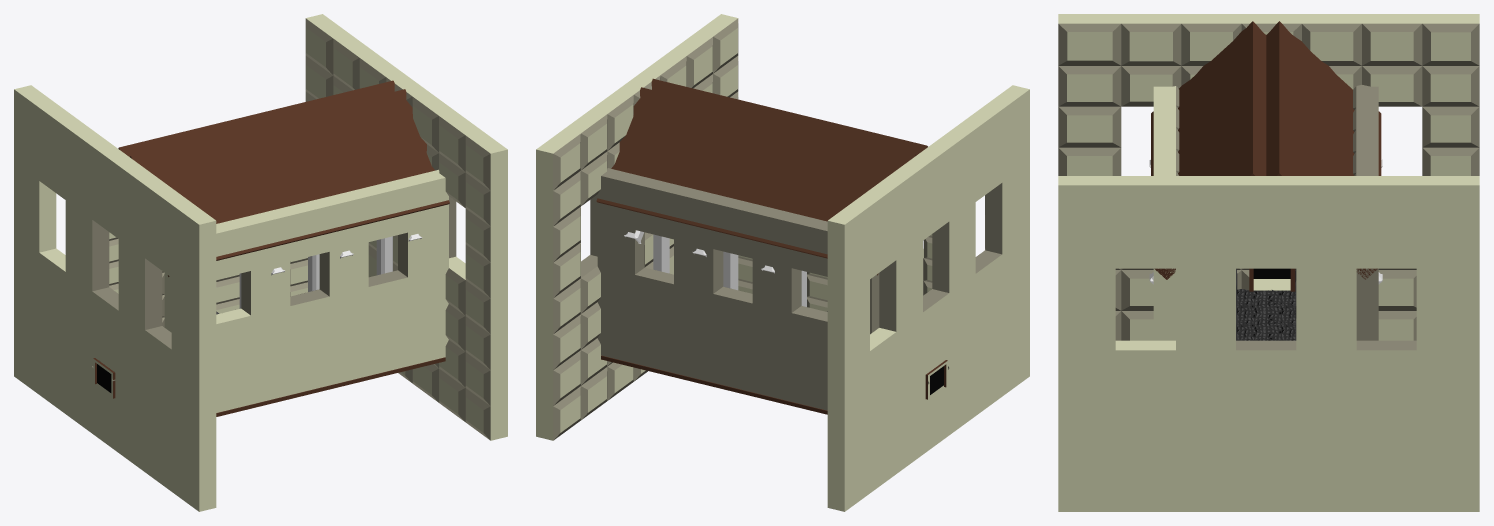
The model's file is mapaProyecto.fbx.
The picture shows the model from 3 angles, left to right: view 1: azimuth 30°, elevation 25°; view 2: azimuth 150°, elevation 25°; view 3: azimuth 270°, elevation 25°; orthographic projection. The views are drawn at different scales.
Parts seen in each view (by area): view 1: Cubo.038, Cubo.037, Cubo.033, Cubo.035, Cubo.034, Cubo, Cubo.036, Cubo.017; view 2: Cubo.038, Cubo, Cubo.033, Cubo.034, Cubo.035, Cubo.037, Cubo.036, Cubo.014, Cubo.009; view 3: Cubo.033, Cubo.038, Cubo.035, Cubo.034, Cubo, Cubo.037, Placa.010, Placa.013, Placa.011, Placa.012.
Boxes of the visible parts, x1,y1,x2,y2 form: Cubo.038: [14, 85, 216, 511]; Cubo.037: [164, 169, 448, 412]; Cubo.033: [305, 14, 507, 440]; Cubo.035: [130, 89, 449, 276]; Cubo.034: [118, 80, 394, 156]; Cubo: [109, 232, 307, 327]; Cubo.036: [216, 357, 445, 416]; Cubo.017: [376, 236, 392, 275]; Cubo.038: [827, 85, 1029, 511]; Cubo: [597, 168, 879, 410]; Cubo.033: [536, 14, 738, 440]; Cubo.034: [596, 87, 916, 275]; Cubo.035: [651, 78, 927, 155]; Cubo.037: [738, 234, 932, 311]; Cubo.036: [601, 355, 827, 414]; Cubo.014: [653, 234, 669, 273]; Cubo.009: [723, 251, 738, 290]; Cubo.033: [1058, 176, 1479, 511]; Cubo.038: [1058, 14, 1479, 340]; Cubo.035: [1151, 21, 1266, 279]; Cubo.034: [1266, 21, 1381, 279]; Cubo: [1353, 85, 1378, 340]; Cubo.037: [1153, 86, 1179, 340]; Placa.010: [1237, 308, 1266, 326]; Placa.013: [1266, 308, 1295, 326]; Placa.011: [1237, 289, 1266, 307]; Placa.012: [1266, 290, 1295, 307].
Size of the model in its own units: 18207 by 16116 by 18700.
